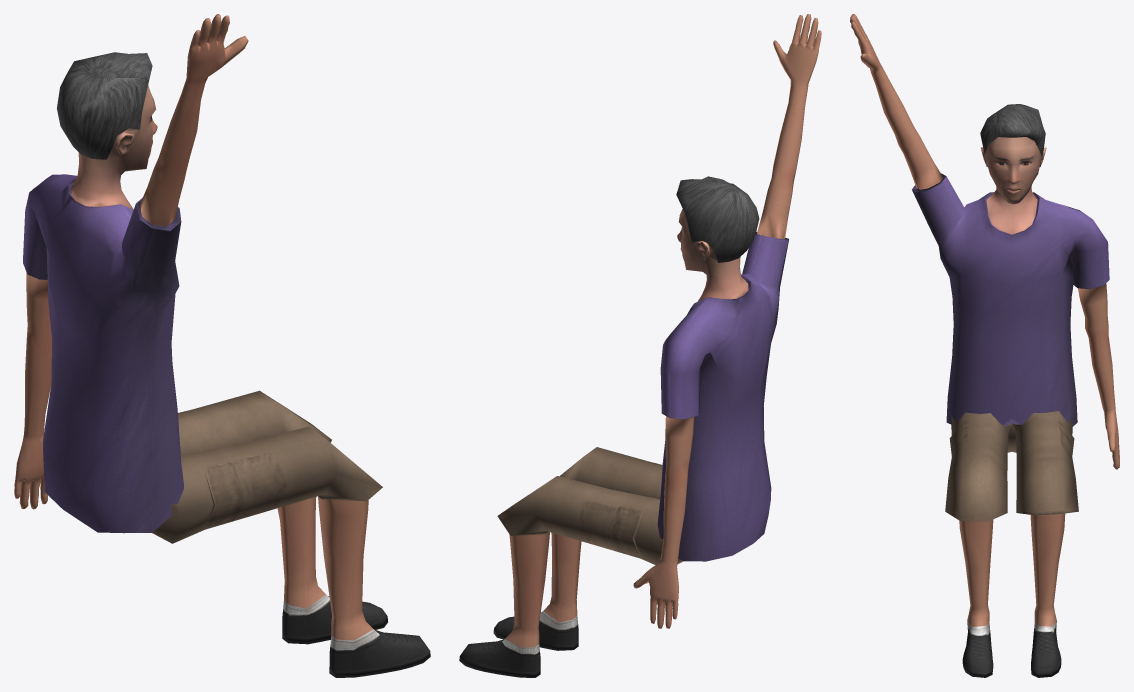
File: seated_right.dae
3 views of the same model, side by side, from view 1: azimuth 30°, elevation 25°; view 2: azimuth 150°, elevation 25°; view 3: azimuth 270°, elevation 25° (orthographic). The views are drawn at different scales.
Visible parts, largest first — view 1: StaticHuman; view 2: StaticHuman; view 3: StaticHuman.
Boxes of the visible parts, bbox=[...] form: StaticHuman: bbox=[14, 14, 430, 677]; StaticHuman: bbox=[459, 14, 821, 677]; StaticHuman: bbox=[850, 14, 1119, 677].
Size of the model in its own units: 0.7218 by 0.6831 by 1.55.
1 material, 1 textured.
